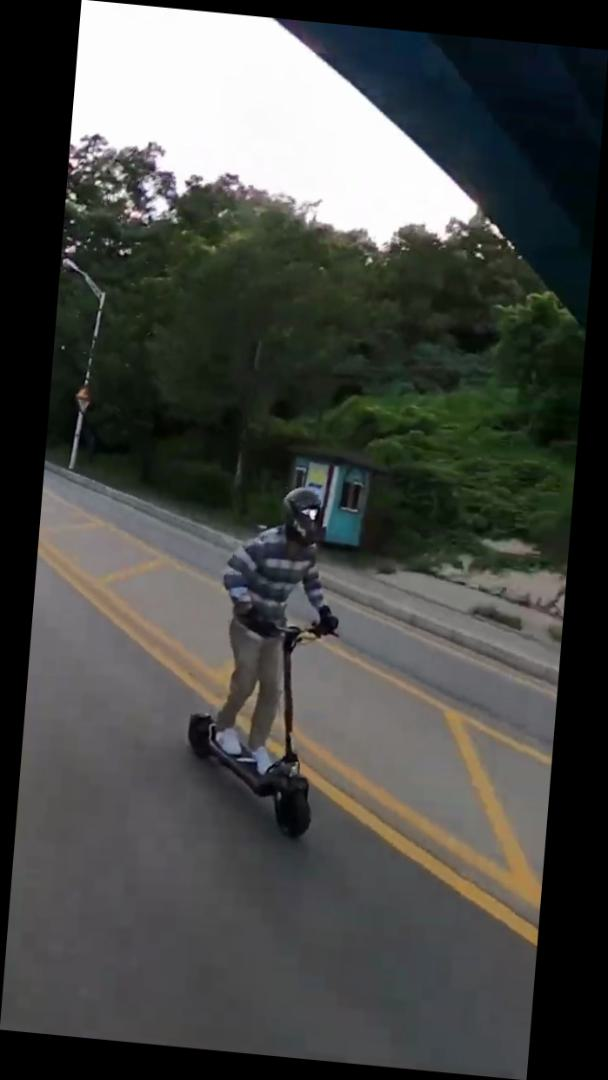helmet: (175, 478, 353, 846)
